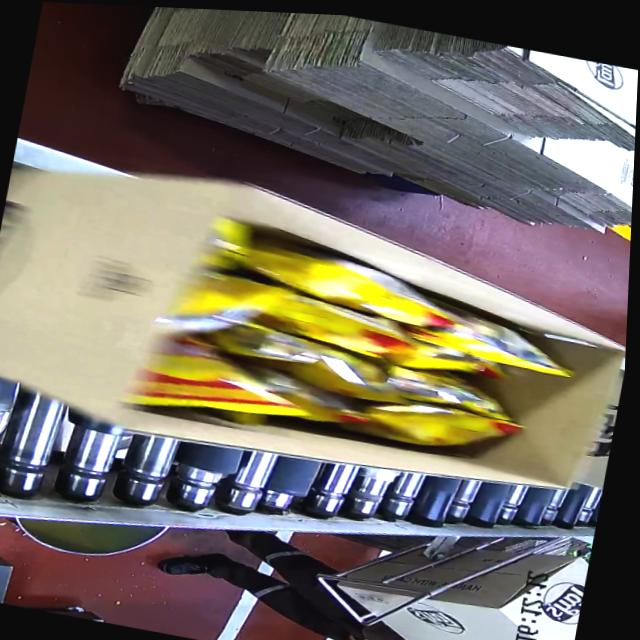SALTED: (172, 235, 548, 481)
